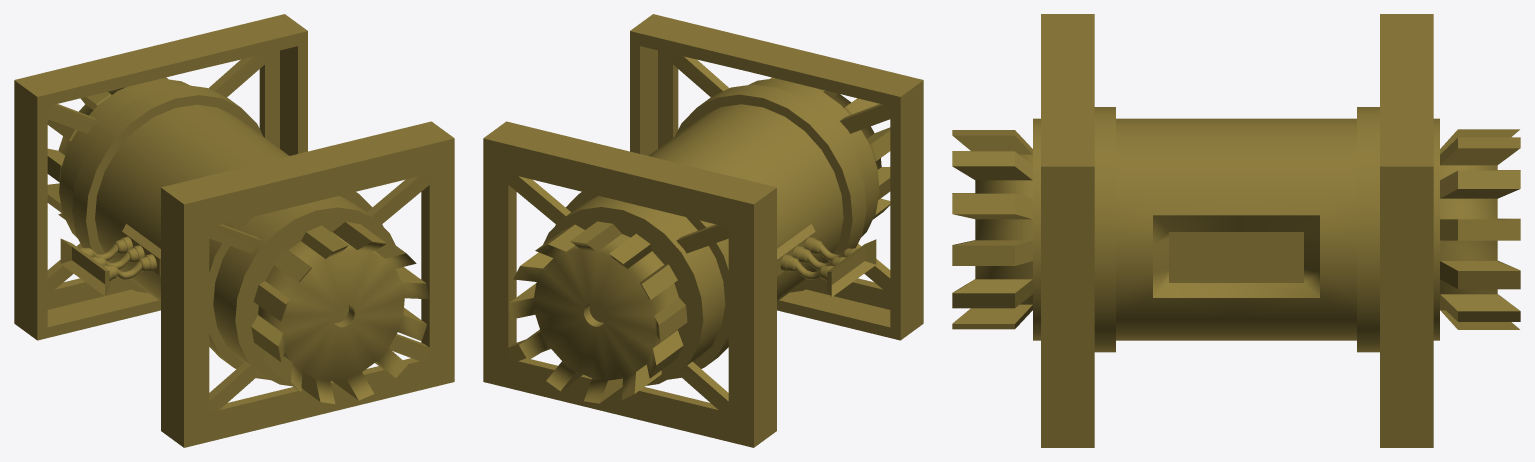
Rendered from FullGeneratorAssembly01.fbx.
3 views of the same model, side by side, from view 1: azimuth 30°, elevation 25°; view 2: azimuth 150°, elevation 25°; view 3: azimuth 270°, elevation 25° (orthographic). The views are drawn at different scales.
Visible parts, largest first — view 1: FullGeneratorAssembly01; view 2: FullGeneratorAssembly01; view 3: FullGeneratorAssembly01.
Part boxes in pixels (bbox=[...]): FullGeneratorAssembly01: bbox=[14, 14, 454, 447]; FullGeneratorAssembly01: bbox=[483, 14, 923, 447]; FullGeneratorAssembly01: bbox=[952, 14, 1520, 447].
Size of the model in its own units: 359 by 292 by 534.
